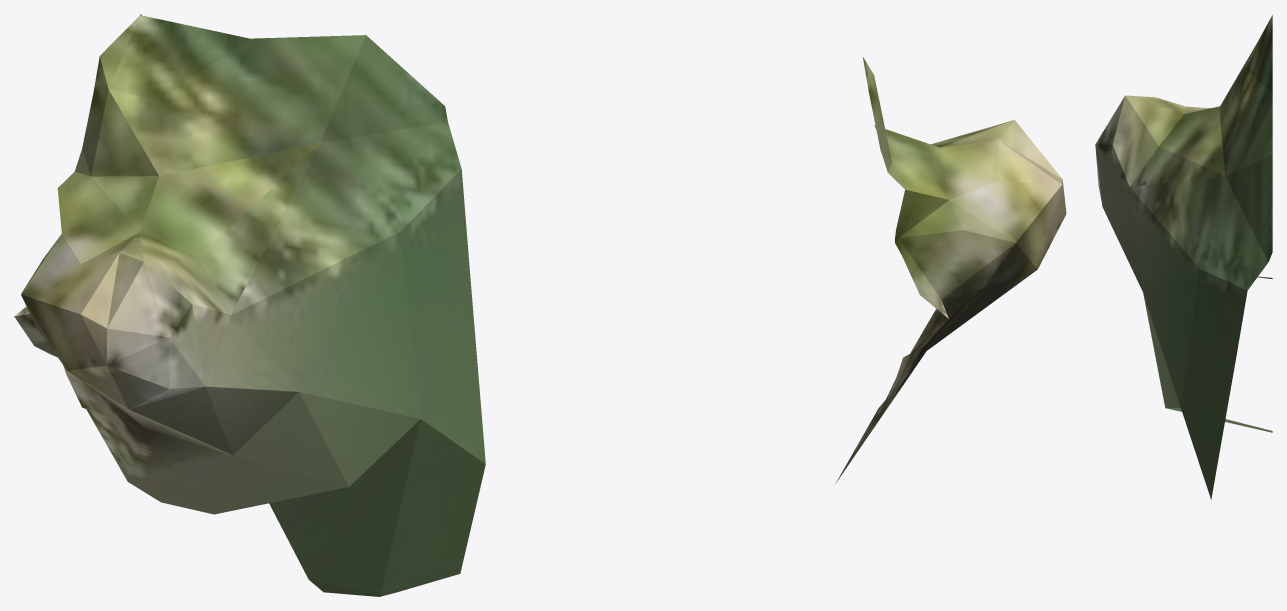
3 views of the same model, side by side, from view 1: azimuth 30°, elevation 25°; view 2: azimuth 150°, elevation 25°; view 3: azimuth 270°, elevation 25° (orthographic). The views are drawn at different scales.
Size of the model in its own units: 0.7663 by 0.9901 by 0.3381.
1 material, 1 textured.
